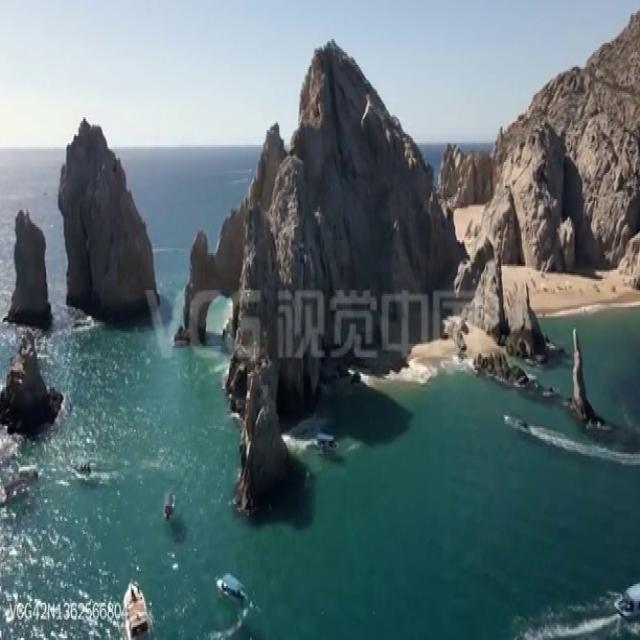houseboat: (119, 578, 150, 640), (215, 570, 249, 612), (614, 576, 640, 618), (314, 432, 339, 460), (503, 412, 532, 436), (14, 462, 43, 480), (162, 491, 176, 518), (74, 457, 92, 476)
